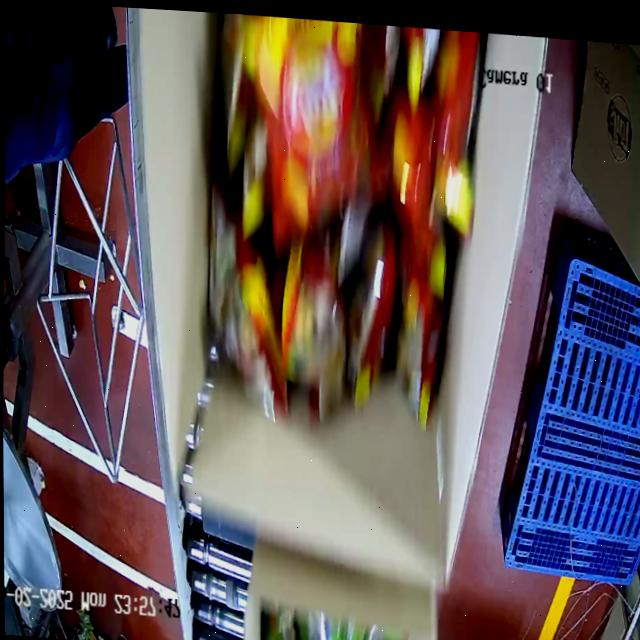MASALA: (181, 11, 494, 432)
YOGURT_HERB: (261, 608, 401, 640)
